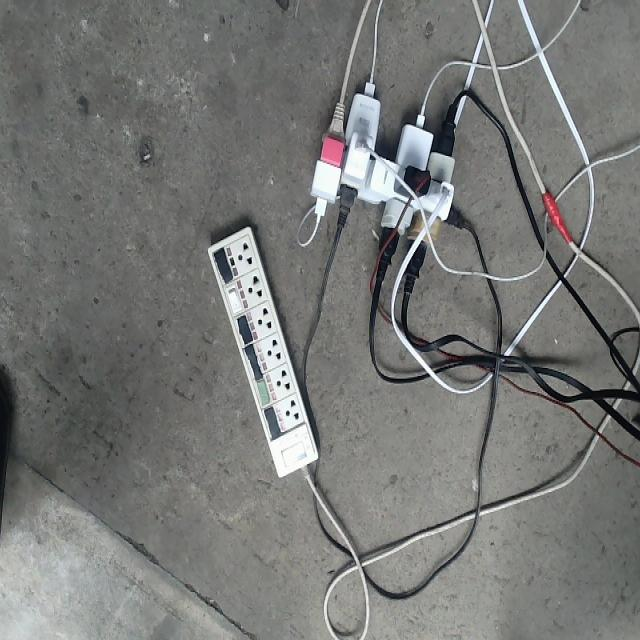-: (306, 78, 467, 278)
